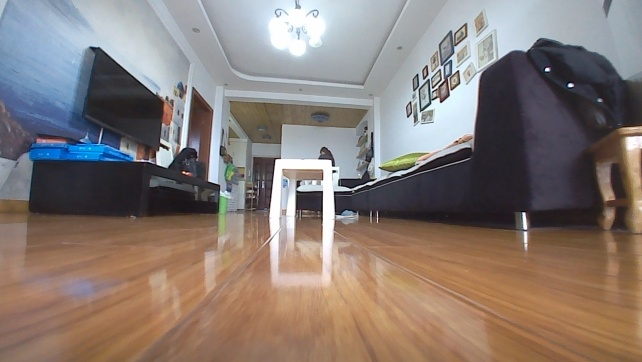TV_stand: (25, 155, 224, 218)
door_anno: (250, 155, 281, 211)
sofa: (297, 35, 630, 232)
